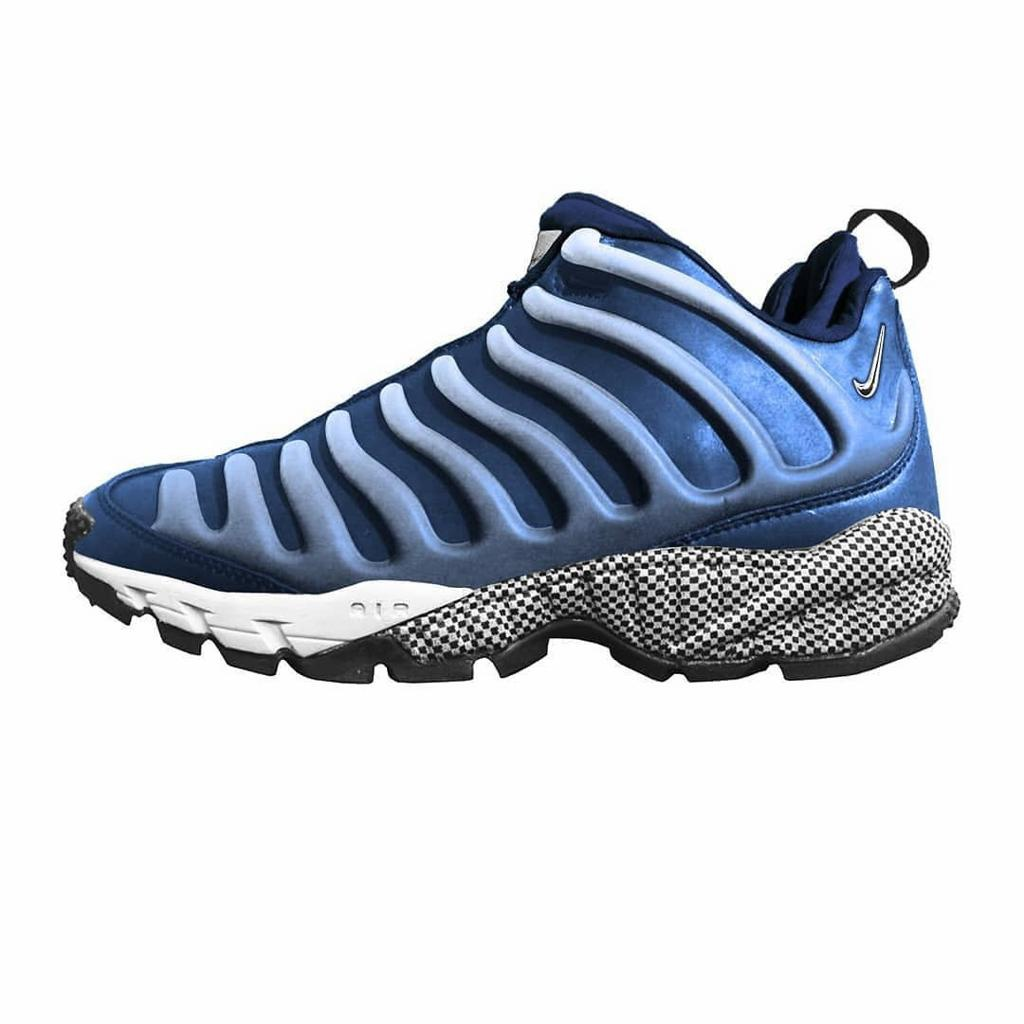Farbe: (81, 189, 936, 595)
Sohle: (65, 504, 962, 688)
ganzer_schuh: (60, 189, 960, 687)
